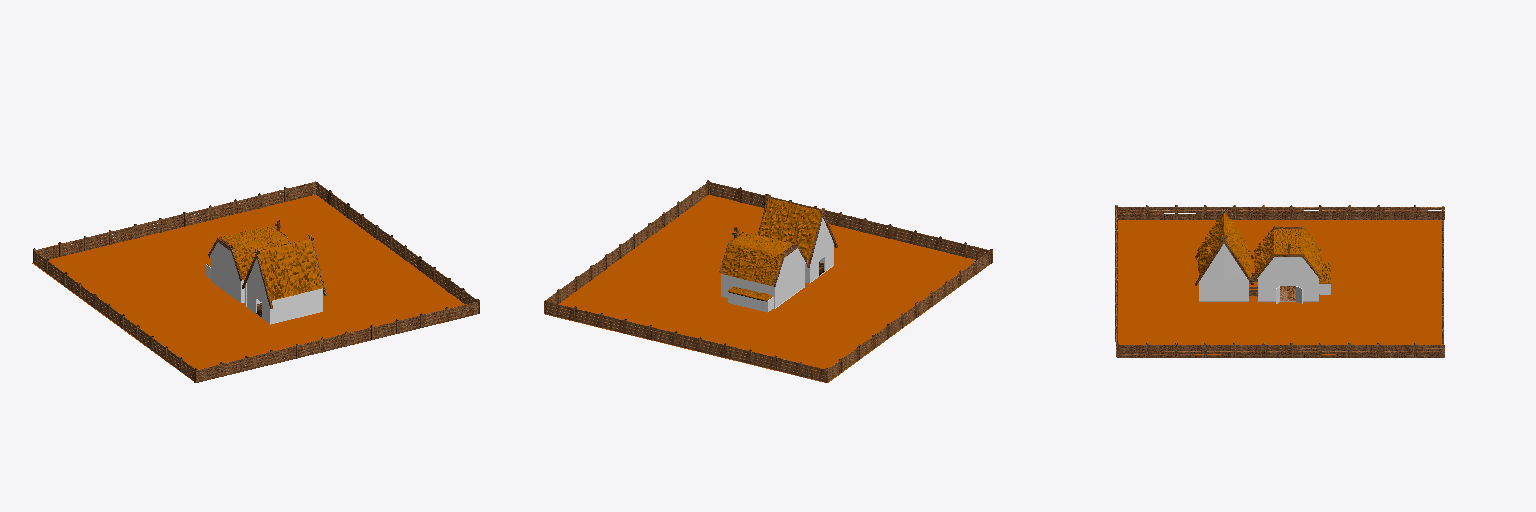
3 renders of one model, left to right at view 1: azimuth 30°, elevation 25°; view 2: azimuth 150°, elevation 25°; view 3: azimuth 270°, elevation 25°, orthographic.
Parts seen in each view (by area): view 1: floor, girðing, Plane.015, Cube.015, Plane.017, Cube.021; view 2: floor, girðing, Plane.019, Plane.009, Plane.018, Cube.021, Plane.006, Cube.003; view 3: floor, girðing, Cube.020, Cube.010, Cube.006, Cube.018.
Boxes of the visible parts, x1=… form: floor: x1=32, y1=195, x2=464, y2=380; girðing: x1=33, y1=181, x2=479, y2=382; Plane.015: x1=279, y1=239, x2=322, y2=295; Cube.015: x1=269, y1=288, x2=322, y2=324; Plane.017: x1=258, y1=247, x2=291, y2=300; Cube.021: x1=211, y1=259, x2=241, y2=302; floor: x1=545, y1=195, x2=988, y2=382; girðing: x1=544, y1=180, x2=992, y2=382; Plane.019: x1=781, y1=204, x2=820, y2=259; Plane.009: x1=721, y1=243, x2=760, y2=280; Plane.018: x1=759, y1=198, x2=789, y2=239; Cube.021: x1=774, y1=264, x2=804, y2=308; Plane.006: x1=752, y1=250, x2=782, y2=286; Cube.003: x1=721, y1=274, x2=773, y2=297; floor: x1=1118, y1=220, x2=1443, y2=354; girðing: x1=1115, y1=205, x2=1444, y2=357; Cube.020: x1=1201, y1=278, x2=1246, y2=301; Cube.010: x1=1258, y1=279, x2=1318, y2=301; Cube.006: x1=1257, y1=257, x2=1318, y2=278; Cube.018: x1=1202, y1=244, x2=1246, y2=278.
Bounding box in the file's own units: 99.82 × 22.78 × 99.73.
8 materials, 1 textured.